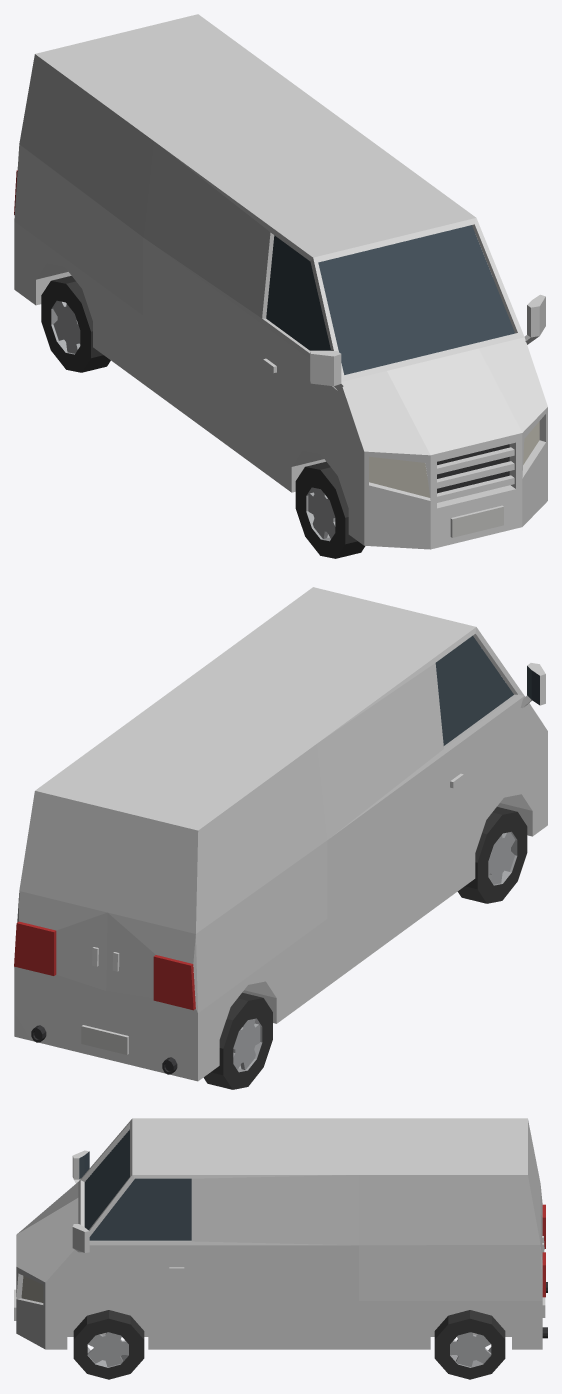
File: van.glb
3 renders of one model, top to bottom at view 1: azimuth 30°, elevation 25°; view 2: azimuth 150°, elevation 25°; view 3: azimuth 270°, elevation 25°, orthographic. The views are drawn at different scales.
Parts seen in each view (by area): view 1: paint, fixed; view 2: paint, fixed; view 3: paint, fixed.
Part boxes in pixels (box(x1,y1,x2,y2)): paint: box(14, 14, 547, 549); fixed: box(14, 170, 539, 558); paint: box(14, 587, 547, 1081); fixed: box(14, 635, 539, 1089); paint: box(14, 1118, 545, 1349); fixed: box(21, 1129, 547, 1379).
Bounding box in the file's own units: 1.95 × 2.25 × 5.4.
